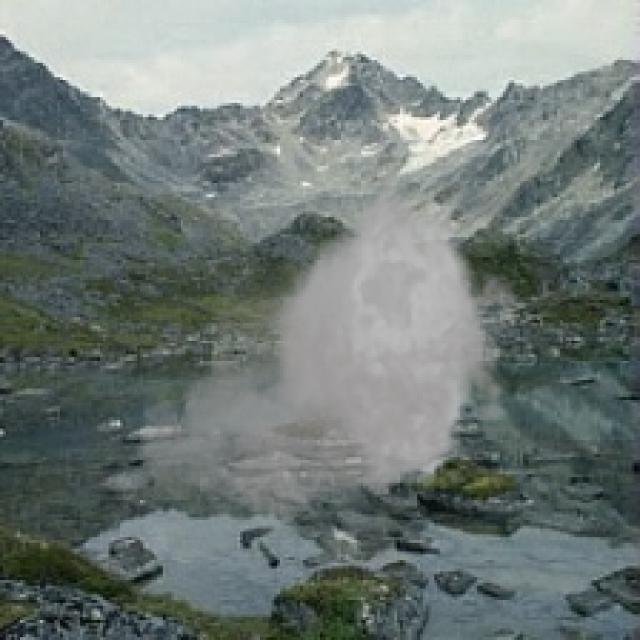smoke: (132, 137, 534, 537)
